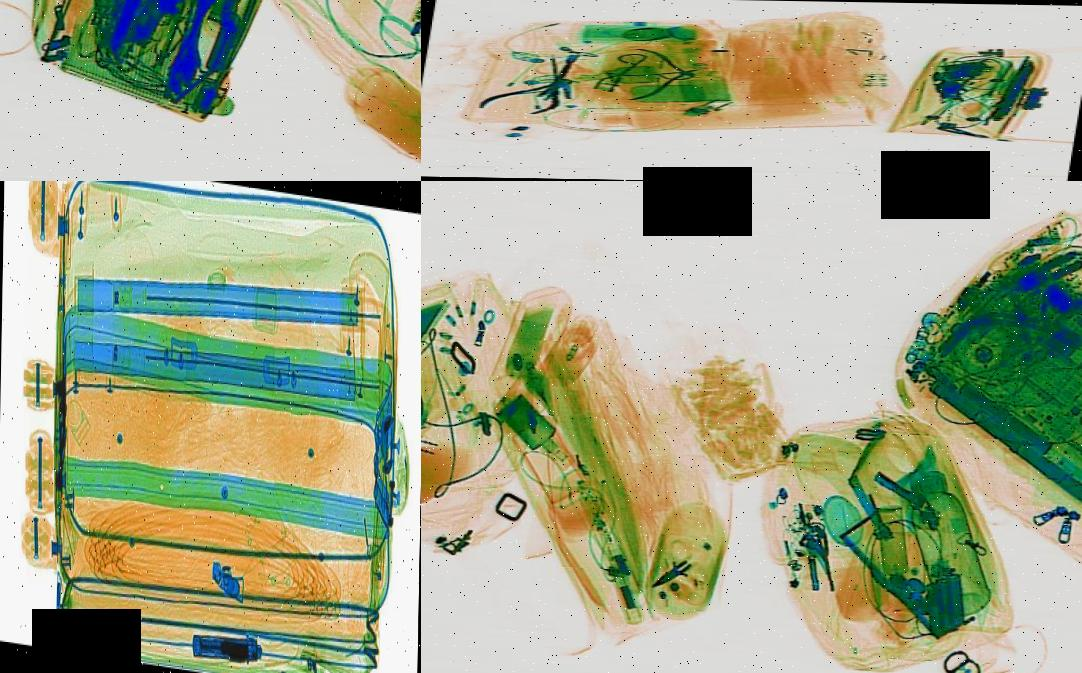Gun: (191, 622, 263, 665)
Knife: (637, 554, 705, 595)
Pliers: (470, 69, 610, 116), (624, 47, 711, 100)
